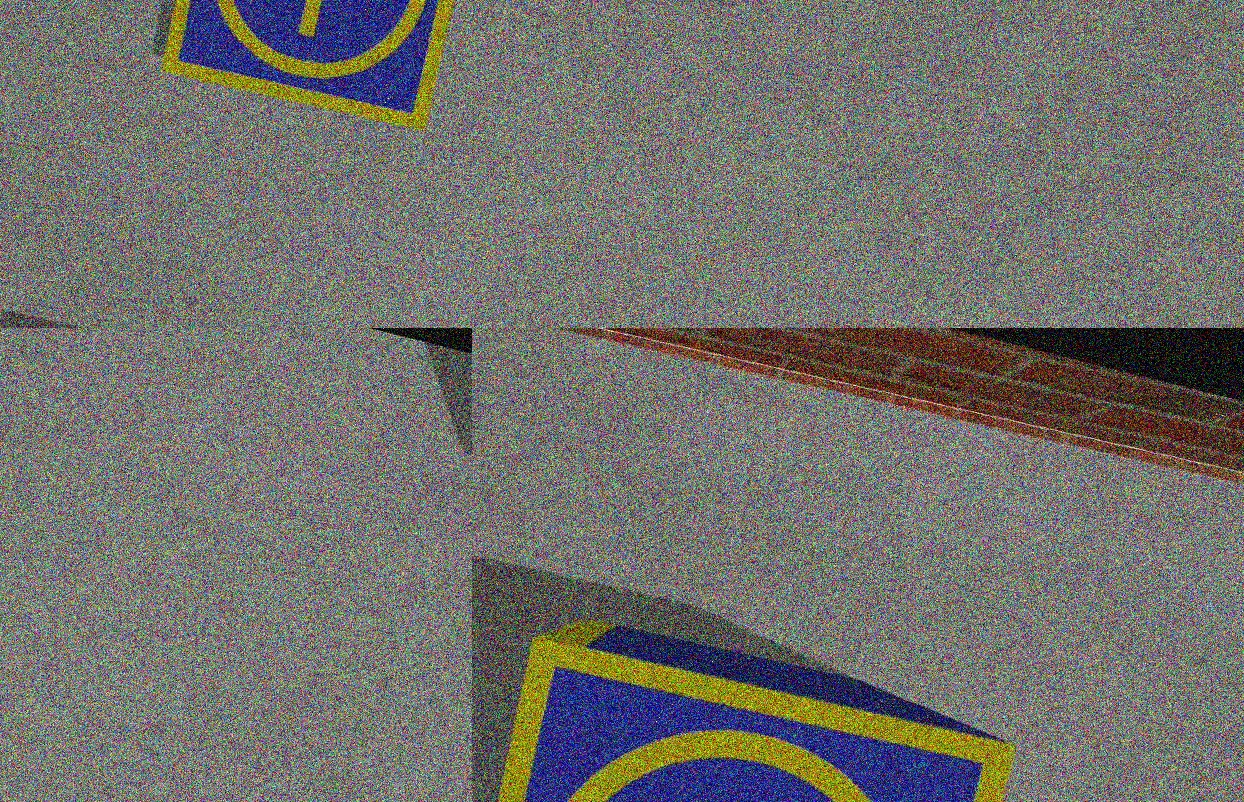small_base: (473, 621, 1015, 802), (150, 1, 473, 137)
